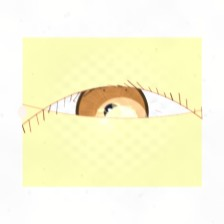corneal_ulcer: (93, 99, 149, 144)
